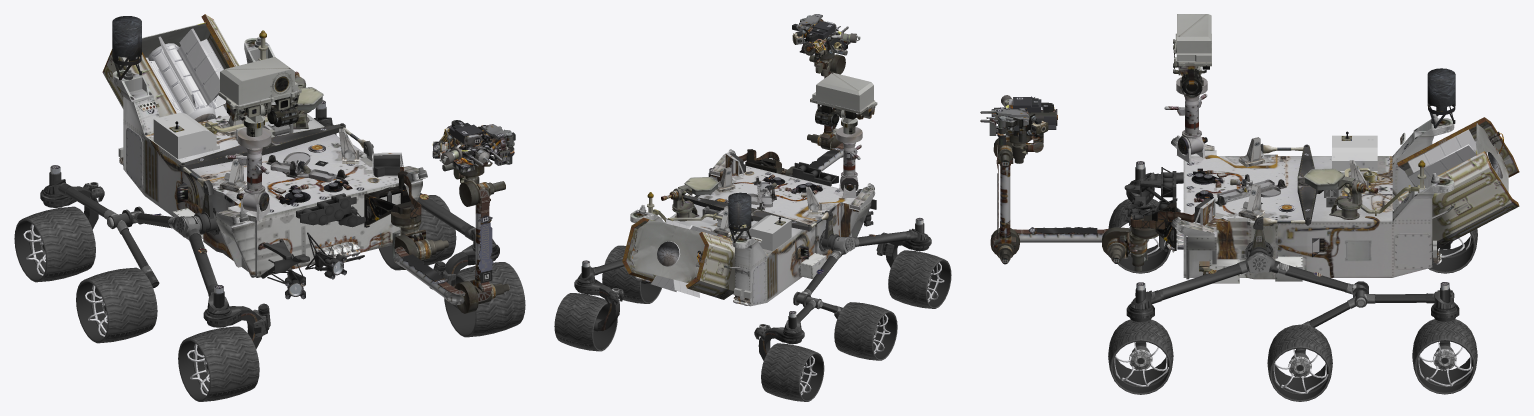
File: curiosity_rover.glb
3 views of the same model, side by side, from view 1: azimuth 30°, elevation 25°; view 2: azimuth 150°, elevation 25°; view 3: azimuth 270°, elevation 25° (orthographic). The views are drawn at different scales.
Parts seen in each view (by area): view 1: Curiosity.1; view 2: Curiosity.1; view 3: Curiosity.1.
Boxes of the visible parts, bbox=[...] form: Curiosity.1: bbox=[14, 14, 525, 401]; Curiosity.1: bbox=[554, 14, 951, 401]; Curiosity.1: bbox=[980, 14, 1519, 401].
Size of the model in its own units: 2.78 by 2.21 by 4.
Materials: 10 (8 with a texture image).
